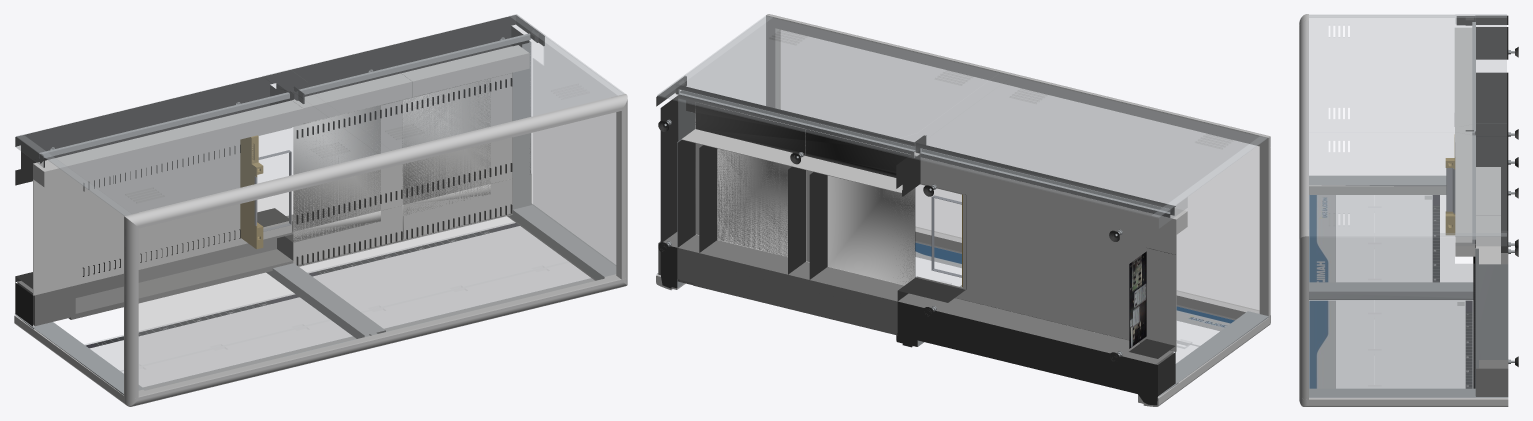
File: starplus_base_with_top_panel.glb
3 views of the same model, side by side, from view 1: azimuth 30°, elevation 25°; view 2: azimuth 150°, elevation 25°; view 3: azimuth 270°, elevation 25° (orthographic). The views are drawn at different scales.
Visible parts, largest first — view 1: starplus_base; view 2: starplus_base; view 3: starplus_base.
Part boxes in pixels (x1=…): starplus_base: x1=14, y1=14, x2=627, y2=406; starplus_base: x1=656, y1=14, x2=1270, y2=406; starplus_base: x1=1299, y1=14, x2=1518, y2=406.
Size of the model in its own units: 2.16 by 0.7926 by 0.903.
16 materials, 5 textured.
